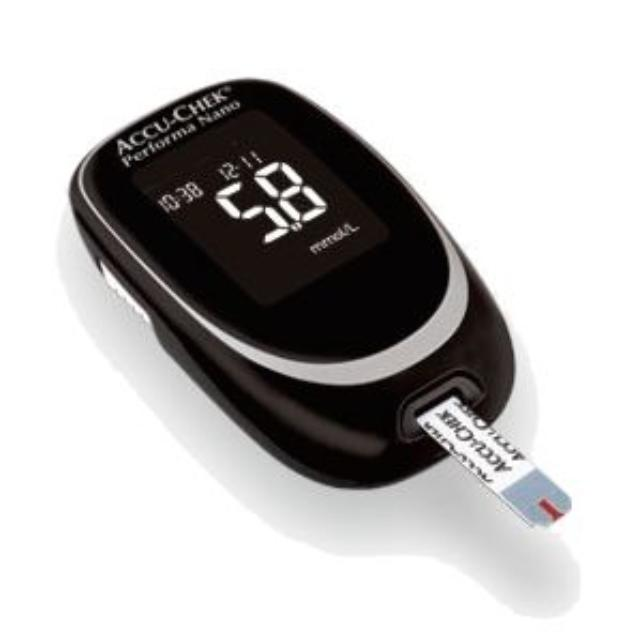Glucose-Meter: (70, 80, 569, 526)
